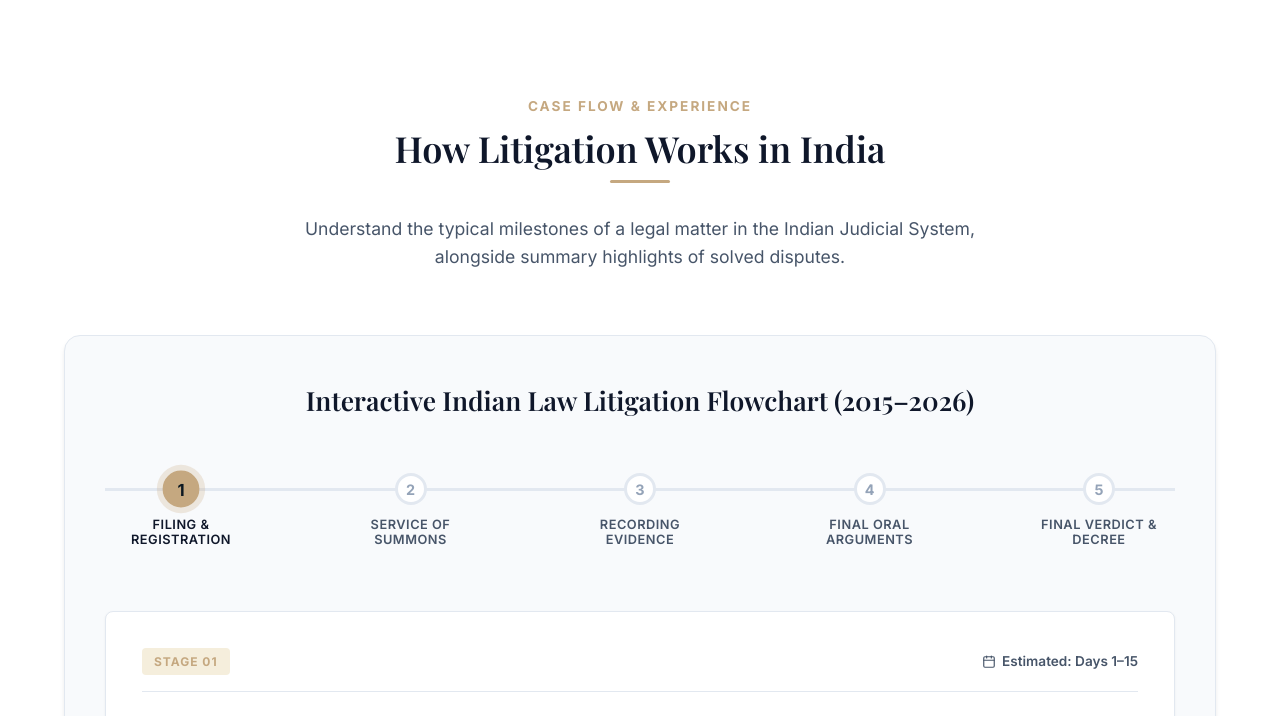
Scenario: CaseStudies › navigates through all steps using step indicators
Click the button with aria-label "go to step 5" at (1099, 510), box [1039,473,1159,547]
(page scrolled)
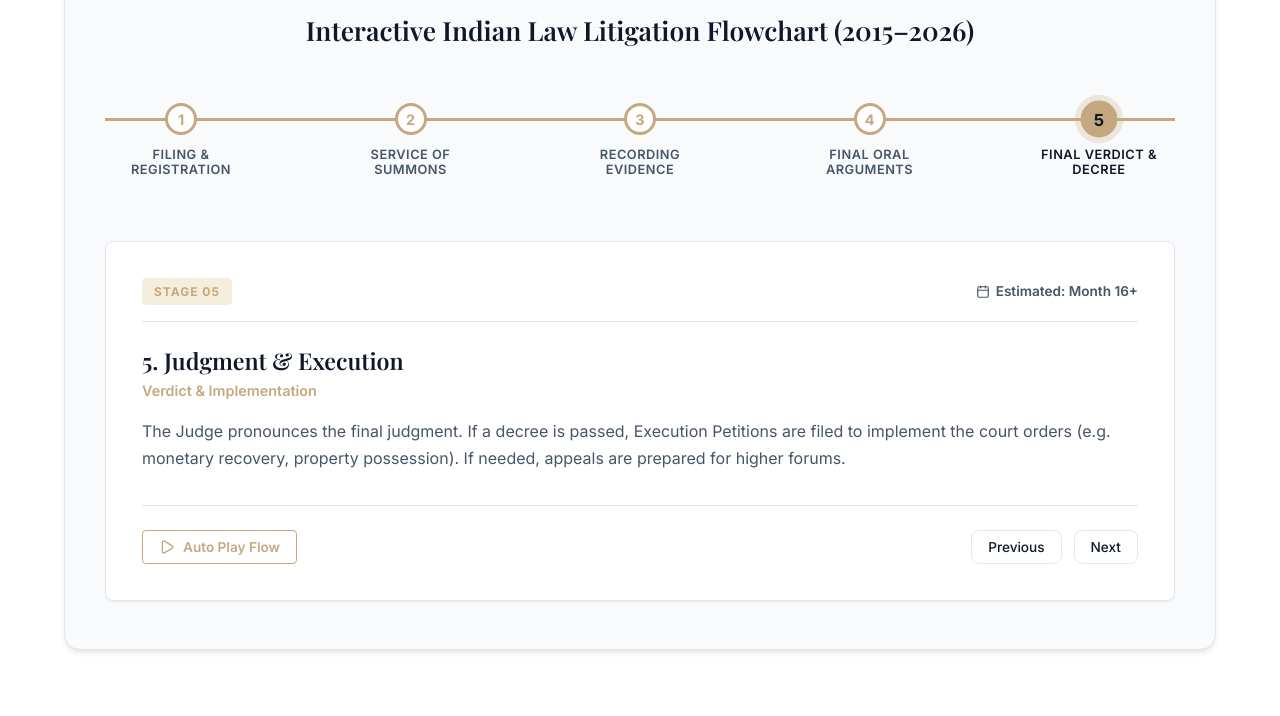
Check: the heading "5. Judgment & Execution" is shown, box [142,345,404,376]
